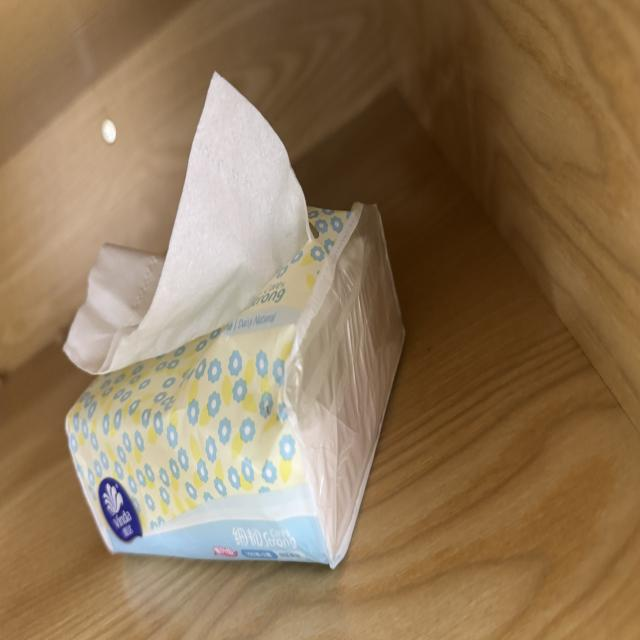tissue: (66, 77, 404, 567), (67, 205, 403, 566), (65, 74, 310, 373), (65, 245, 164, 372)
